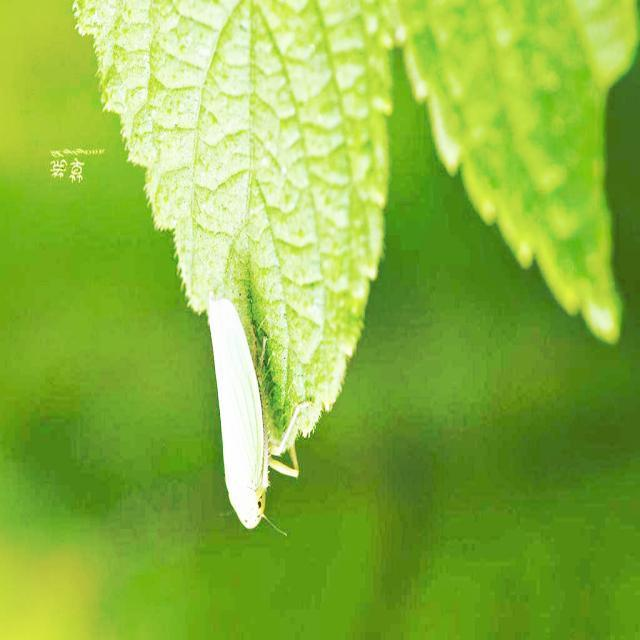green-leafhopper: (207, 294, 309, 534)
